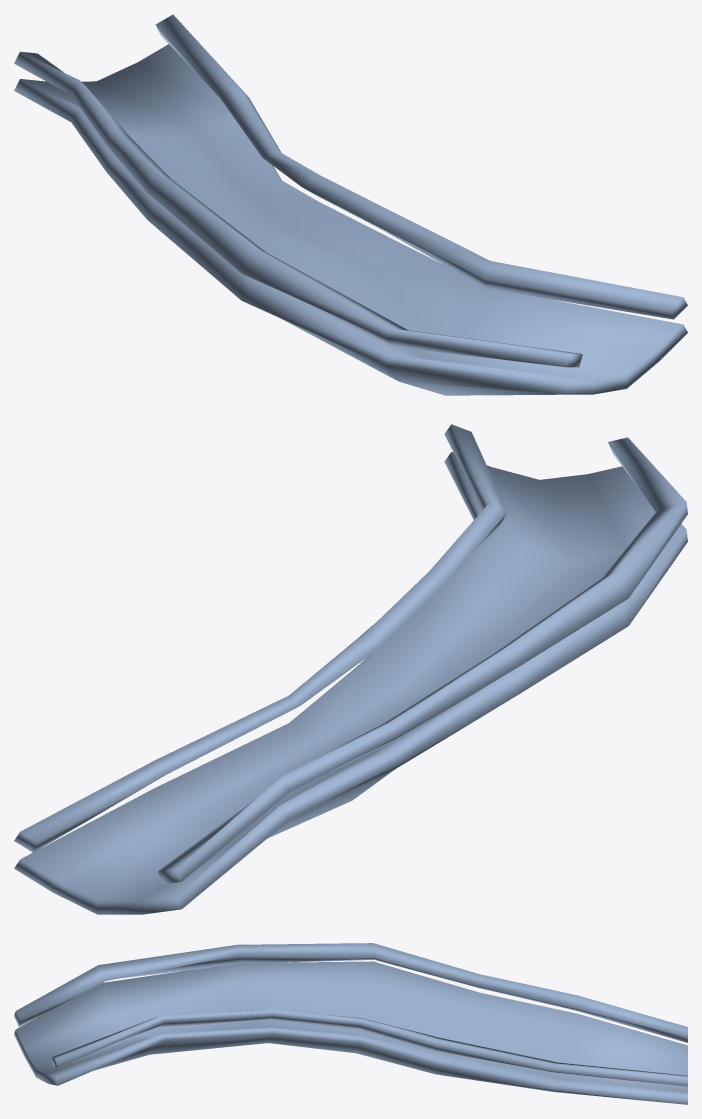
File: junRoadShort2p5_20.fbx
3 views of the same model, one above another, from view 1: azimuth 30°, elevation 25°; view 2: azimuth 150°, elevation 25°; view 3: azimuth 270°, elevation 25° (orthographic). The views are drawn at different scales.
Visible parts, largest first — view 1: junRoadShort2p5_20_LOD0, junRoadShort2p5_20_edge_LOD0; view 2: junRoadShort2p5_20_LOD0, junRoadShort2p5_20_edge_LOD0; view 3: junRoadShort2p5_20_LOD0, junRoadShort2p5_20_edge_LOD0.
Boxes of the visible parts, x1,y1,x2,y2 form: junRoadShort2p5_20_LOD0: [14, 44, 687, 395]; junRoadShort2p5_20_edge_LOD0: [14, 14, 687, 367]; junRoadShort2p5_20_LOD0: [14, 452, 687, 914]; junRoadShort2p5_20_edge_LOD0: [14, 424, 687, 884]; junRoadShort2p5_20_LOD0: [14, 961, 687, 1104]; junRoadShort2p5_20_edge_LOD0: [14, 943, 687, 1086].
Bounding box in the file's own units: 604 × 255 × 1662.
